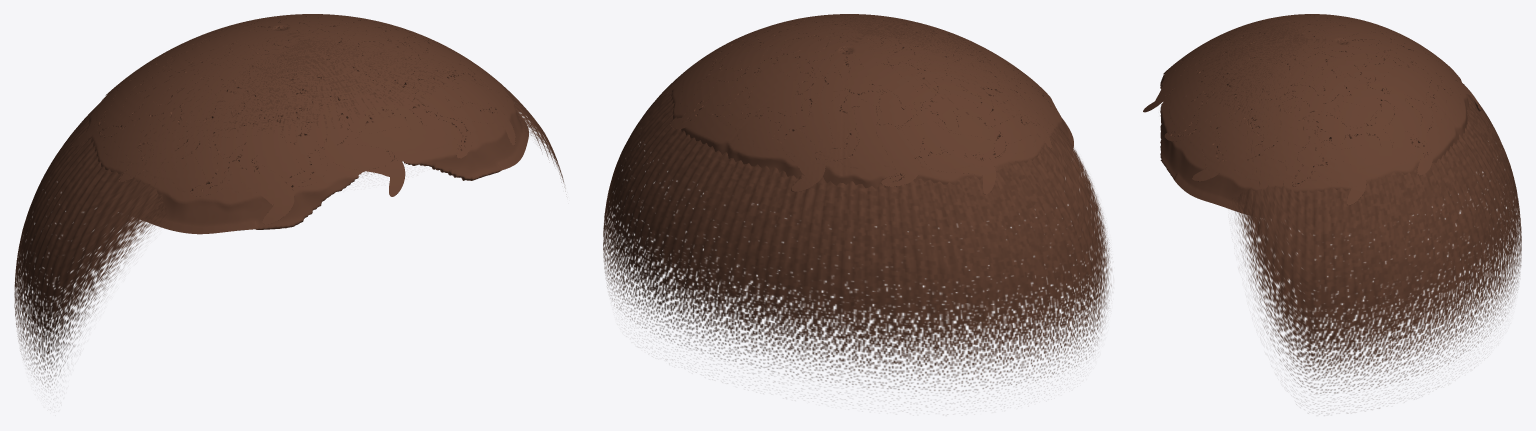
Rendered from Masculine-curly-top-cap256-hair.glb.
3 renders of one model, left to right at view 1: azimuth 30°, elevation 25°; view 2: azimuth 150°, elevation 25°; view 3: azimuth 270°, elevation 25°, orthographic. The views are drawn at different scales.
Parts seen in each view (by area): view 1: 226 hair / Hair252 / sculpted curl groups, 226 hair / Hair256 / selected B sides; view 2: 226 hair / Hair256 / selected B sides, 226 hair / Hair252 / sculpted curl groups; view 3: 226 hair / Hair256 / selected B sides, 226 hair / Hair252 / sculpted curl groups.
Part boxes in pixels (x1,y1,x2,y2): 226 hair / Hair252 / sculpted curl groups: (72, 14, 528, 234); 226 hair / Hair256 / selected B sides: (14, 20, 564, 387); 226 hair / Hair256 / selected B sides: (603, 14, 1111, 400); 226 hair / Hair252 / sculpted curl groups: (661, 14, 1073, 194); 226 hair / Hair256 / selected B sides: (1198, 14, 1521, 413); 226 hair / Hair252 / sculpted curl groups: (1143, 14, 1481, 214).
Bounding box in the file's own units: 0.972 × 0.584 × 0.7283.
Materials: 2 (1 with a texture image).
